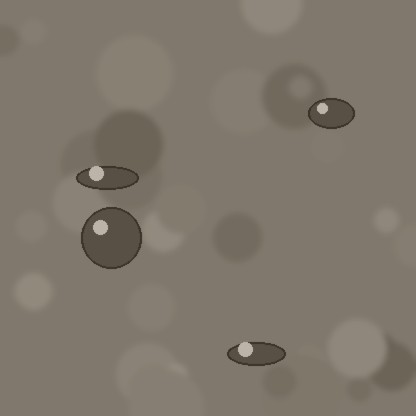gota: (81, 209, 141, 273), (76, 167, 138, 191), (308, 99, 354, 131), (227, 343, 285, 367)
